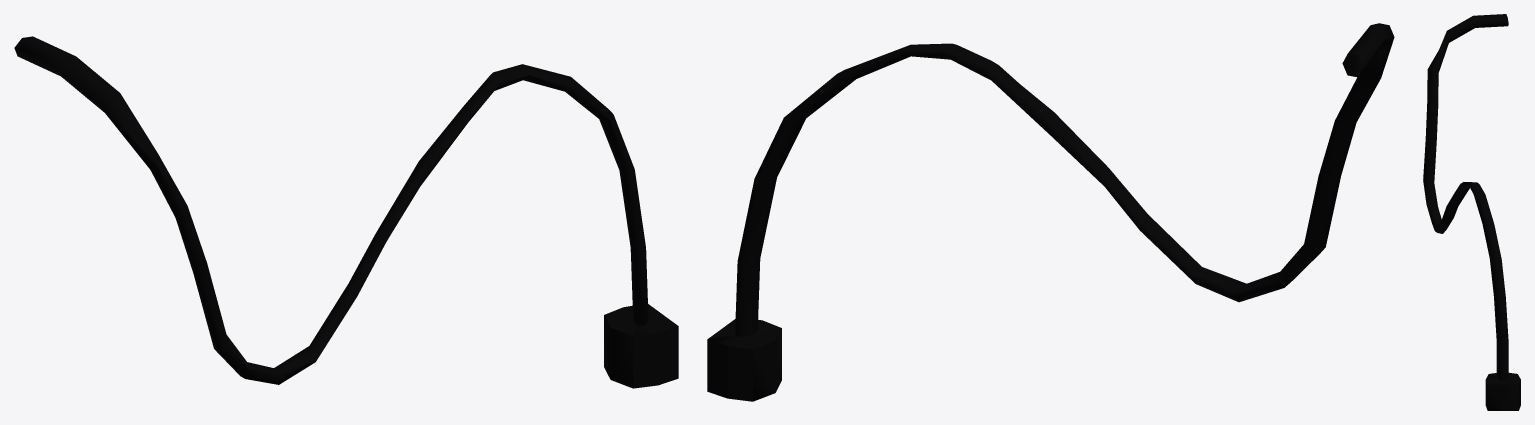
Rendered from powercord2.fbx.
The picture shows the model from 3 angles, left to right: view 1: azimuth 30°, elevation 25°; view 2: azimuth 150°, elevation 25°; view 3: azimuth 270°, elevation 25°; orthographic projection. The views are drawn at different scales.
Parts seen in each view (by area): view 1: cord5, plug5; view 2: cord5, plug5; view 3: cord5, plug5.
Boxes of the visible parts, bbox=[...] form: cord5: bbox=[14, 36, 648, 384]; plug5: bbox=[604, 304, 678, 388]; cord5: bbox=[735, 23, 1394, 336]; plug5: bbox=[707, 319, 781, 401]; cord5: bbox=[1423, 14, 1508, 380]; plug5: bbox=[1485, 372, 1520, 410].
Bounding box in the file's own units: 1.58 × 1.13 × 0.4147.
